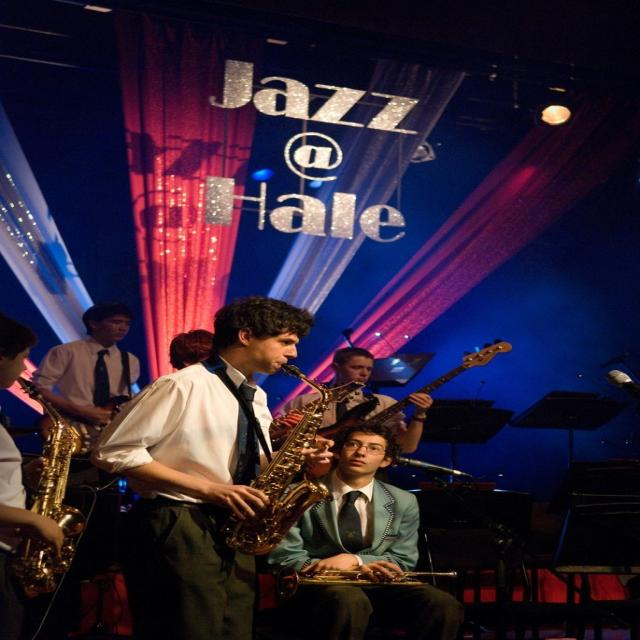saxophone: (215, 362, 340, 560), (0, 372, 83, 598)
